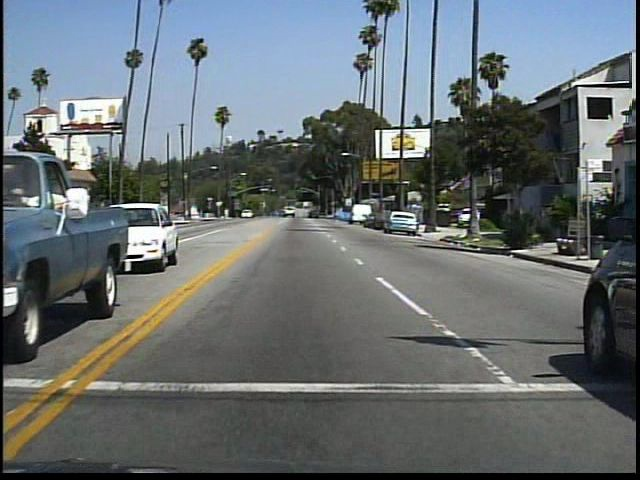person: (513, 198, 537, 251)
